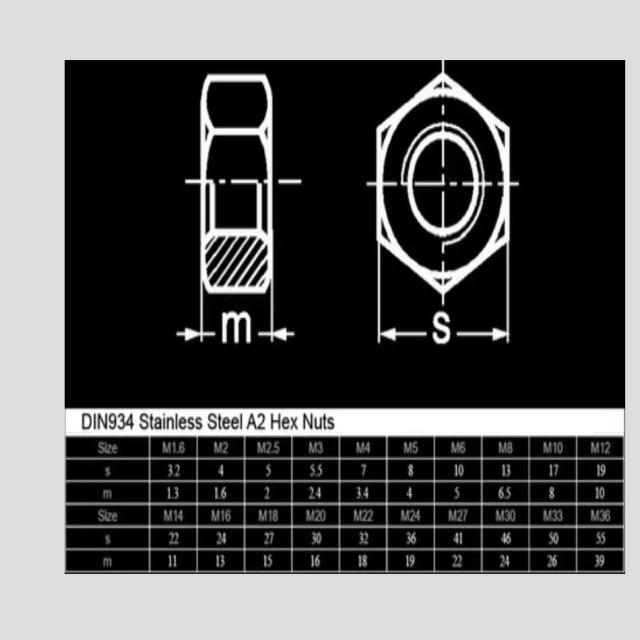marking_line: (376, 299, 511, 347), (492, 253, 516, 352), (373, 258, 398, 346), (174, 298, 217, 344), (269, 287, 297, 347)
numeric: (218, 463, 226, 477), (454, 486, 461, 501), (174, 463, 181, 477), (219, 554, 226, 568), (272, 509, 279, 523), (316, 531, 323, 545), (360, 463, 367, 477), (364, 442, 371, 456), (315, 554, 321, 570), (458, 463, 465, 476), (509, 509, 516, 522), (557, 441, 564, 454), (223, 441, 229, 456), (267, 554, 273, 569), (310, 463, 316, 478), (362, 553, 368, 568), (358, 530, 364, 545), (412, 440, 418, 455), (498, 486, 504, 501), (221, 486, 227, 500), (274, 441, 280, 455), (264, 486, 270, 500), (309, 486, 315, 500), (362, 509, 368, 523), (368, 508, 374, 522), (409, 554, 415, 568), (462, 508, 468, 522), (508, 441, 514, 455), (505, 485, 511, 499), (548, 487, 555, 499), (598, 554, 604, 568), (599, 509, 605, 523), (600, 465, 606, 479), (405, 553, 410, 569), (177, 510, 183, 523), (225, 508, 231, 521), (266, 441, 272, 454), (269, 532, 275, 545), (315, 486, 321, 499), (321, 509, 327, 522), (408, 464, 414, 477), (460, 441, 466, 454), (457, 509, 463, 522), (551, 509, 557, 522), (605, 441, 611, 454), (169, 531, 174, 546), (168, 554, 173, 569), (214, 486, 219, 501), (268, 509, 273, 524), (311, 530, 316, 545), (318, 440, 323, 455), (558, 507, 563, 522), (600, 486, 605, 501), (167, 465, 173, 477), (221, 532, 227, 544), (504, 510, 510, 522), (552, 555, 558, 567), (174, 532, 179, 546), (364, 487, 369, 501), (416, 509, 421, 523), (452, 555, 457, 569), (457, 554, 462, 568), (501, 464, 506, 478), (505, 554, 510, 568), (548, 554, 553, 568), (596, 532, 601, 546), (216, 533, 222, 544), (553, 534, 559, 545), (407, 486, 412, 499), (410, 509, 415, 522), (406, 532, 411, 545), (411, 531, 416, 544), (500, 555, 505, 568), (594, 555, 599, 568), (596, 465, 601, 478), (606, 508, 610, 524), (215, 556, 220, 568), (179, 442, 184, 454), (266, 464, 271, 476), (264, 532, 269, 544), (310, 554, 314, 569), (357, 487, 361, 502), (453, 533, 458, 545), (507, 464, 511, 479), (501, 532, 506, 544), (549, 531, 553, 546), (174, 508, 178, 522), (173, 555, 177, 569), (221, 508, 225, 522), (172, 442, 177, 453), (316, 509, 320, 522), (454, 464, 458, 477), (459, 532, 463, 545), (506, 531, 510, 544), (549, 463, 553, 476), (554, 462, 558, 475), (601, 532, 605, 545), (595, 487, 599, 500), (600, 442, 604, 455), (318, 465, 322, 477), (365, 532, 369, 544), (554, 442, 558, 454), (264, 554, 267, 568), (359, 555, 361, 569)
